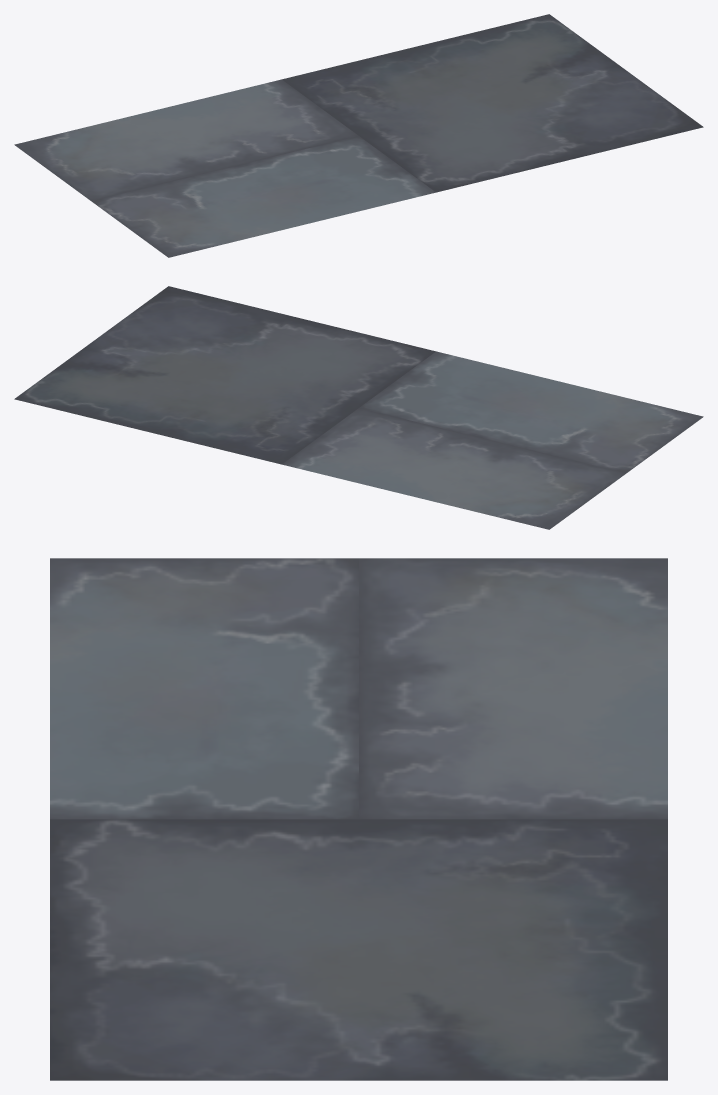
File: Castle Ground X Mix 2x1.fbx
The picture shows the model from 3 angles, top to bottom: view 1: azimuth 30°, elevation 25°; view 2: azimuth 150°, elevation 25°; view 3: azimuth 270°, elevation 25°; orthographic projection. The views are drawn at different scales.
Parts seen in each view (by area): view 1: Castle Ground X Mix 2x1; view 2: Castle Ground X Mix 2x1; view 3: Castle Ground X Mix 2x1.
Boxes of the visible parts, x1=… form: Castle Ground X Mix 2x1: x1=14, y1=14, x2=703, y2=257; Castle Ground X Mix 2x1: x1=14, y1=286, x2=703, y2=529; Castle Ground X Mix 2x1: x1=50, y1=558, x2=667, y2=1080.
Size of the model in its own units: 1.5 by 3.11e-07 by 0.75.
